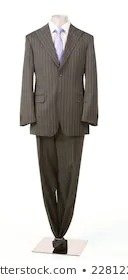F_M_suit jacket: (22, 26, 98, 140)
F_dress pants: (33, 124, 85, 237)
F_tie: (51, 20, 66, 58)
